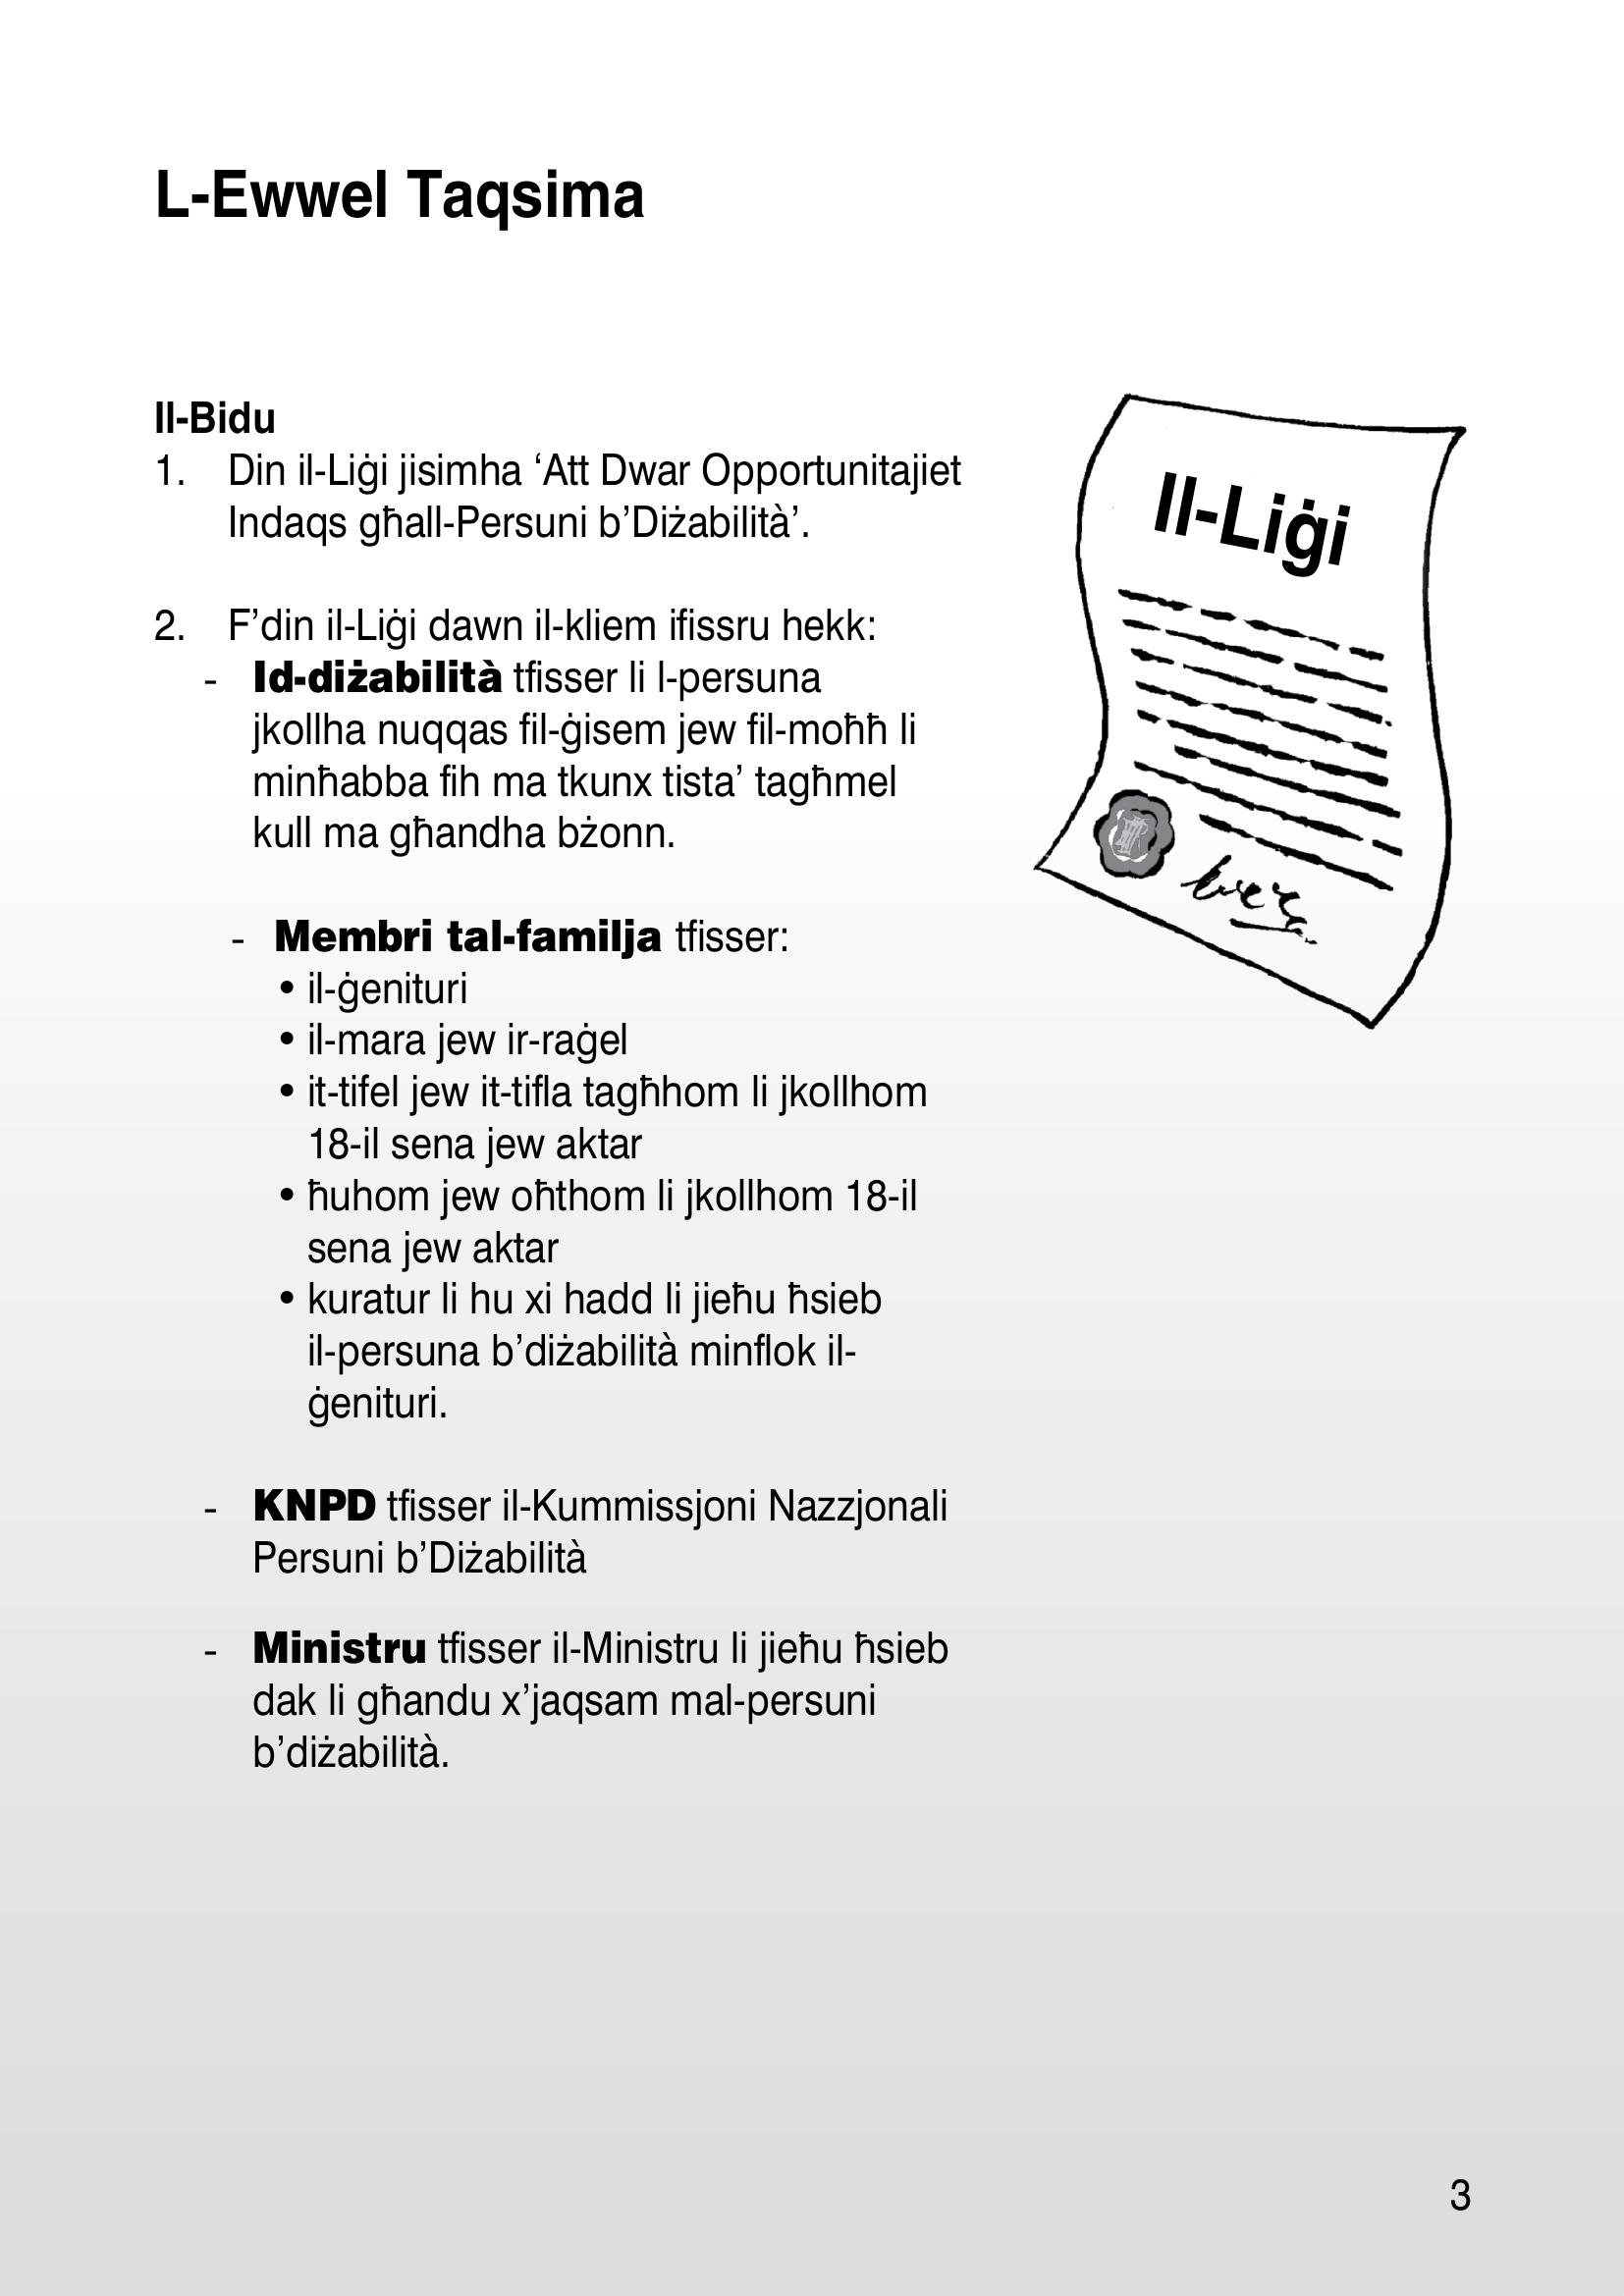text: (121, 132, 975, 1808)
